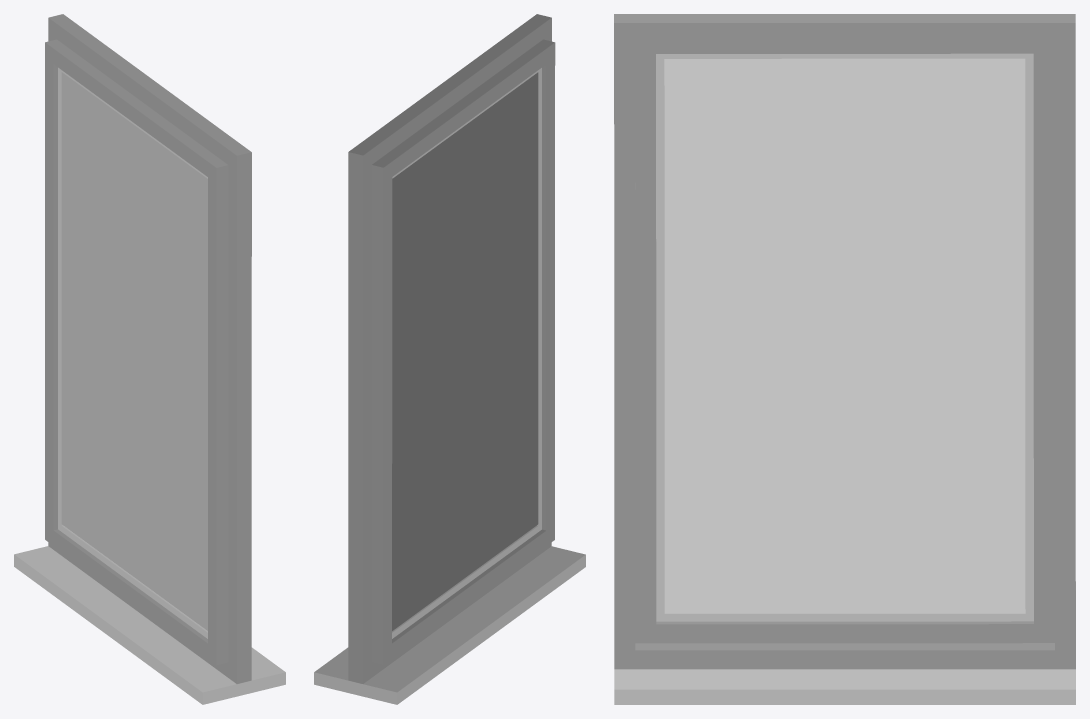
The model's file is Window_580fac9a.obj.
3 views of the same model, side by side, from view 1: azimuth 30°, elevation 25°; view 2: azimuth 150°, elevation 25°; view 3: azimuth 270°, elevation 25° (orthographic). The views are drawn at different scales.
Visible parts, largest first — view 1: QuadDecalSpawnPlane_f1d0dbc2, FP422:polySurface104_044796b2; view 2: QuadDecalSpawnPlane_f1d0dbc2, FP422:polySurface104_044796b2; view 3: FP422:polySurface103_ff77c53e, FP422:polySurface104_044796b2.
Boxes of the visible parts, x1=… form: QuadDecalSpawnPlane_f1d0dbc2: x1=61, y1=72, x2=207, y2=630; FP422:polySurface104_044796b2: x1=14, y1=14, x2=285, y2=704; QuadDecalSpawnPlane_f1d0dbc2: x1=392, y1=72, x2=538, y2=630; FP422:polySurface104_044796b2: x1=314, y1=14, x2=585, y2=704; FP422:polySurface103_ff77c53e: x1=664, y1=58, x2=1025, y2=612; FP422:polySurface104_044796b2: x1=614, y1=14, x2=1075, y2=704.
Size of the model in its own units: 0.28 by 1.74 by 1.1.
